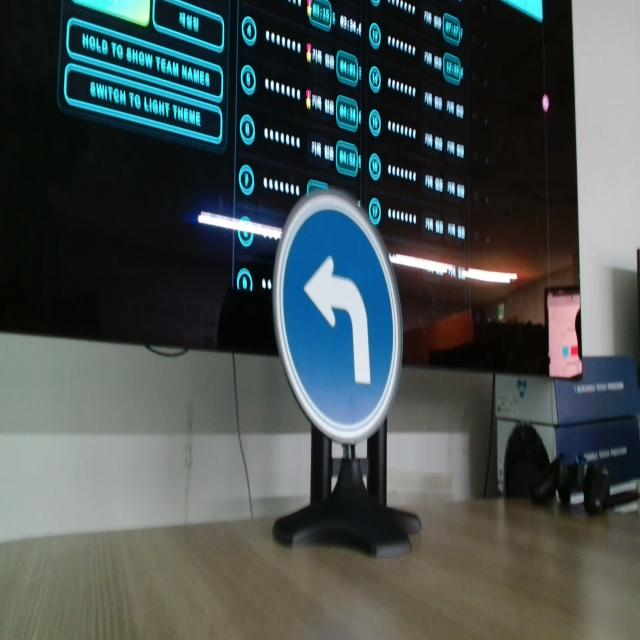left_direction: (270, 198, 410, 441)
